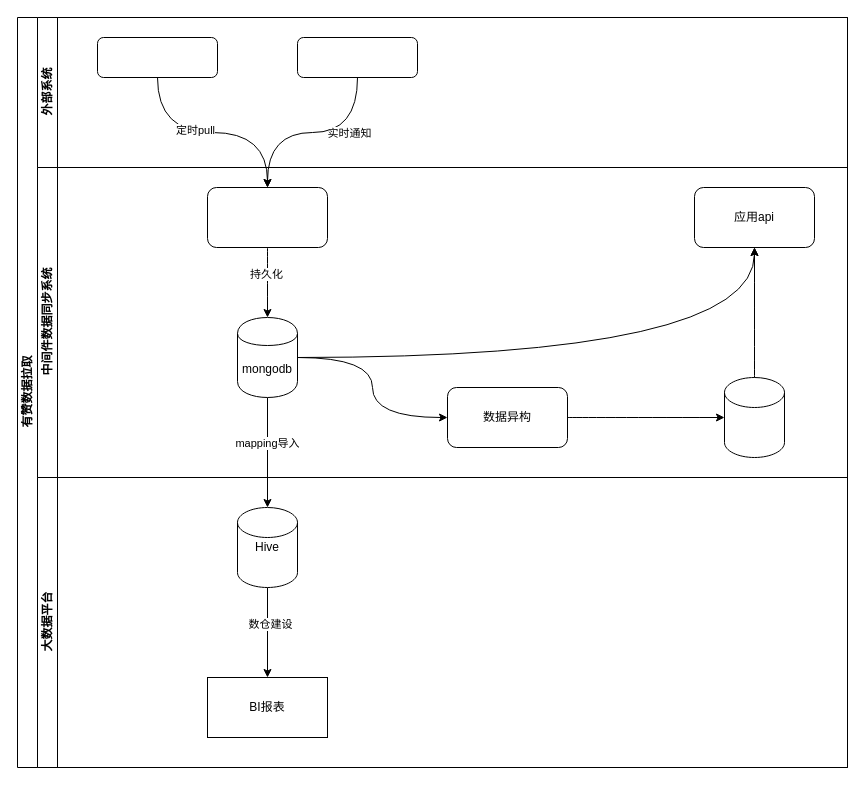
Some shapes in this 865 by 785 pixel diagram are drawn without their labels. Here are the shapes that lost their labels. From the top down, the centre of each, then its label:
At point (157, 57): "有赞接口".
At point (357, 57): "有赞消息".
At point (267, 217): "middleware".
At point (754, 417): "mysql业务库".
